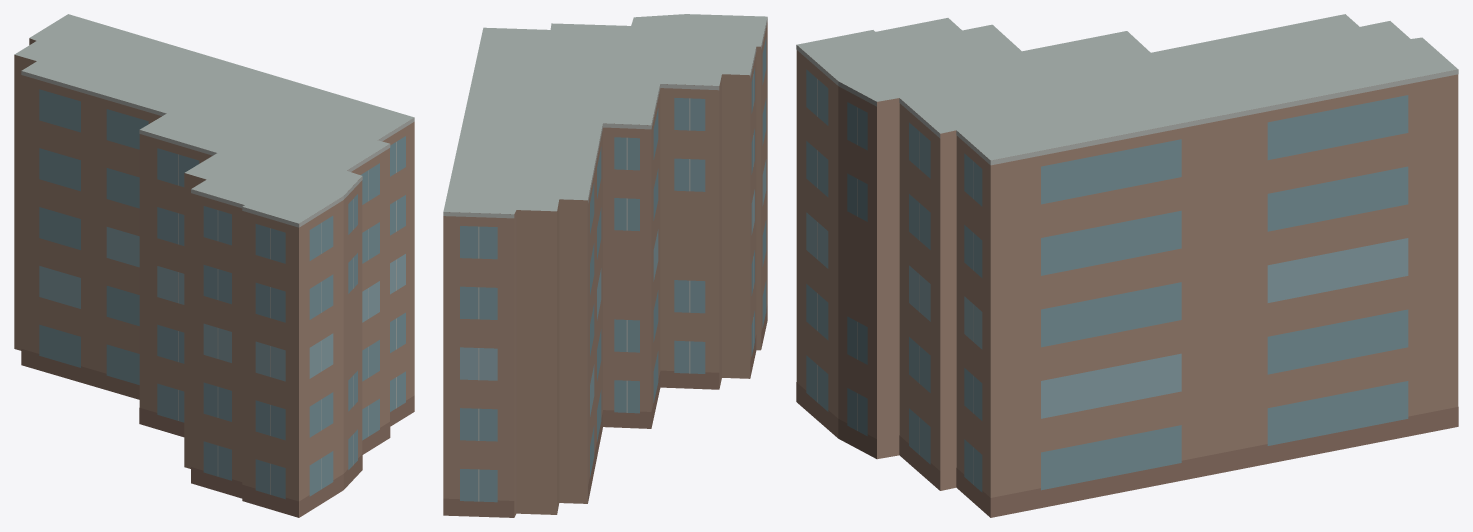
File: survey-upis-32673136.glb
3 renders of one model, left to right at view 1: azimuth 30°, elevation 25°; view 2: azimuth 150°, elevation 25°; view 3: azimuth 270°, elevation 25°, orthographic. The views are drawn at different scales.
Visible parts, largest first — view 1: survey-upis-32673136.tmp; view 2: survey-upis-32673136.tmp; view 3: survey-upis-32673136.tmp.
Boxes of the visible parts, x1,y1,x2,y2 form: survey-upis-32673136.tmp: [14, 14, 414, 517]; survey-upis-32673136.tmp: [443, 14, 767, 517]; survey-upis-32673136.tmp: [796, 14, 1458, 517].
Bounding box in the file's own units: 15.65 × 17.78 × 29.86.
